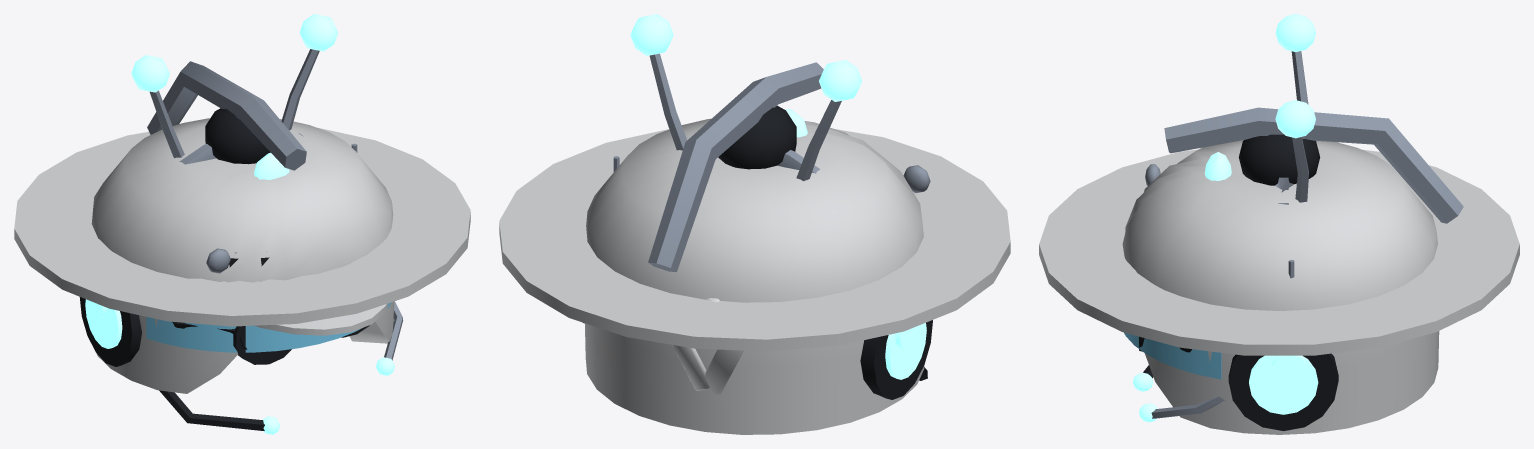
The model's file is Accesorios.fbx.
The picture shows the model from 3 angles, left to right: view 1: azimuth 30°, elevation 25°; view 2: azimuth 150°, elevation 25°; view 3: azimuth 270°, elevation 25°; orthographic projection. The views are drawn at different scales.
Visible parts, largest first — view 1: Accesorio_Casco__Cabeza__Detalle, Accesorio_Explorador__Cabeza__Detalle, Accesorio_Casco__Cabeza__Metal, Accesorio_Casco__Cabeza__Cristal, Accesorio_Auriculares__Cabeza__Oscuro, Accesorio_Gorro__Cabeza__Oscuro, Accesorio_Antenas__Cabeza__Neon, Accesorio_Antenas__Cabeza__Metal, Accesorio_Gorra__Cabeza__Detalle, Accesorio_Auriculares__Cabeza__Neon, Accesorio_Parche__Cabeza__Oscuro, Accesorio_Diadema__Cabeza__Neon (+2 smaller); view 2: Accesorio_Casco__Cabeza__Detalle, Accesorio_Explorador__Cabeza__Detalle, Accesorio_Casco__Cabeza__Metal, Accesorio_Gorro__Cabeza__Oscuro, Accesorio_Antenas__Cabeza__Neon, Accesorio_Auriculares__Cabeza__Oscuro, Accesorio_Antenas__Cabeza__Metal, Accesorio_Cinta__Cabeza__Detalle, Accesorio_Auriculares__Cabeza__Neon, Accesorio_Explorador__Cabeza__Metal; view 3: Accesorio_Casco__Cabeza__Detalle, Accesorio_Explorador__Cabeza__Detalle, Accesorio_Casco__Cabeza__Metal, Accesorio_Auriculares__Cabeza__Oscuro, Accesorio_Gorro__Cabeza__Oscuro, Accesorio_Auriculares__Cabeza__Neon, Accesorio_Antenas__Cabeza__Neon, Accesorio_Casco__Cabeza__Cristal, Accesorio_Antenas__Cabeza__Metal, Accesorio_Casco__Cabeza__Neon, Accesorio_Comunicador__Cabeza__Metal, Accesorio_Diadema__Cabeza__Neon.
Boxes of the visible parts, box(x1,y1,x2,y2) form: Accesorio_Casco__Cabeza__Detalle: box(91, 118, 394, 393); Accesorio_Explorador__Cabeza__Detalle: box(14, 127, 470, 326); Accesorio_Casco__Cabeza__Metal: box(147, 61, 306, 170); Accesorio_Casco__Cabeza__Cristal: box(146, 302, 391, 352); Accesorio_Auriculares__Cabeza__Oscuro: box(79, 297, 264, 430); Accesorio_Gorro__Cabeza__Oscuro: box(205, 108, 270, 164); Accesorio_Antenas__Cabeza__Neon: box(131, 14, 337, 92); Accesorio_Antenas__Cabeza__Metal: box(149, 49, 319, 158); Accesorio_Gorra__Cabeza__Detalle: box(254, 303, 388, 335); Accesorio_Auriculares__Cabeza__Neon: box(85, 299, 280, 434); Accesorio_Parche__Cabeza__Oscuro: box(233, 326, 291, 364); Accesorio_Diadema__Cabeza__Neon: box(254, 152, 289, 179); Accesorio_Casco__Cabeza__Detalle: box(585, 118, 924, 434); Accesorio_Explorador__Cabeza__Detalle: box(499, 129, 1010, 351); Accesorio_Casco__Cabeza__Metal: box(648, 62, 823, 272); Accesorio_Gorro__Cabeza__Oscuro: box(718, 105, 796, 169); Accesorio_Antenas__Cabeza__Neon: box(630, 14, 861, 101); Accesorio_Auriculares__Cabeza__Oscuro: box(583, 320, 932, 399); Accesorio_Antenas__Cabeza__Metal: box(649, 53, 841, 181); Accesorio_Cinta__Cabeza__Detalle: box(672, 298, 743, 394); Accesorio_Auriculares__Cabeza__Neon: box(885, 323, 926, 379); Accesorio_Explorador__Cabeza__Metal: box(903, 165, 930, 193); Accesorio_Casco__Cabeza__Detalle: box(1122, 140, 1439, 434); Accesorio_Explorador__Cabeza__Detalle: box(1039, 149, 1519, 355); Accesorio_Casco__Cabeza__Metal: box(1164, 107, 1463, 223); Accesorio_Auriculares__Cabeza__Oscuro: box(1143, 353, 1338, 430); Accesorio_Gorro__Cabeza__Oscuro: box(1238, 134, 1320, 185); Accesorio_Auriculares__Cabeza__Neon: box(1133, 355, 1318, 414); Accesorio_Antenas__Cabeza__Neon: box(1275, 14, 1315, 138); Accesorio_Casco__Cabeza__Cristal: box(1124, 332, 1221, 379); Accesorio_Antenas__Cabeza__Metal: box(1291, 51, 1308, 202); Accesorio_Casco__Cabeza__Neon: box(1272, 355, 1306, 387); Accesorio_Comunicador__Cabeza__Metal: box(1151, 260, 1294, 418); Accesorio_Diadema__Cabeza__Neon: box(1204, 152, 1231, 180).
Bounding box in the file's own units: 0.6541 × 0.5348 × 0.6608.
